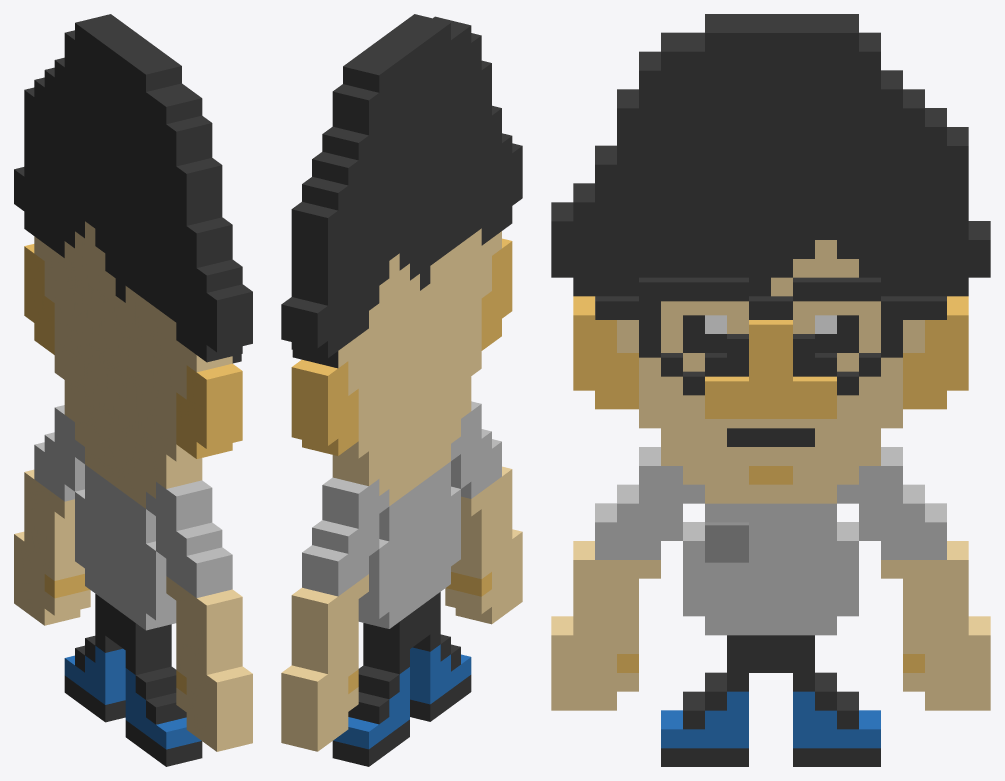
Rendered from charactor.dae.
The picture shows the model from 3 angles, left to right: view 1: azimuth 30°, elevation 25°; view 2: azimuth 150°, elevation 25°; view 3: azimuth 270°, elevation 25°; orthographic projection. The views are drawn at different scales.
Visible parts, largest first — view 1: hirai.1; view 2: hirai.1; view 3: hirai.1.
Part boxes in pixels (left/top/right/bottom): hirai.1: left=14, top=14, right=252, bottom=766; hirai.1: left=281, top=14, right=522, bottom=766; hirai.1: left=551, top=14, right=990, bottom=766.
Size of the model in its own units: 30 by 360 by 196.
